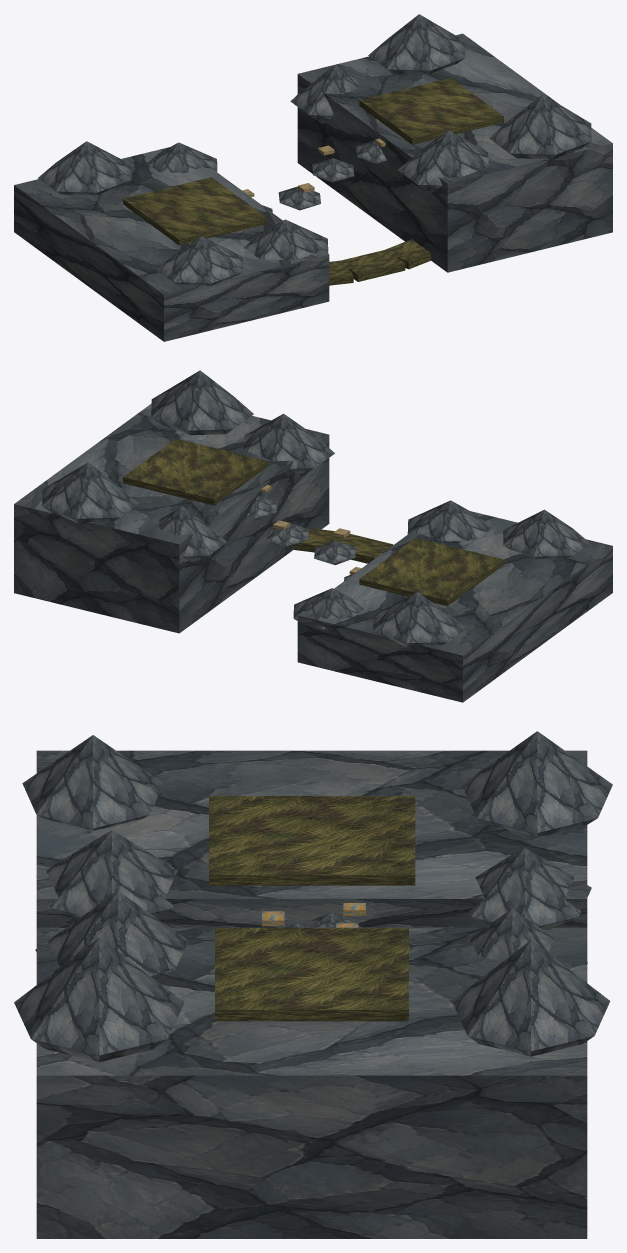
File: ENV_RAVINE_001.obj
3 renders of one model, top to bottom at view 1: azimuth 30°, elevation 25°; view 2: azimuth 150°, elevation 25°; view 3: azimuth 270°, elevation 25°, orthographic. The views are drawn at different scales.
Parts seen in each view (by area): view 1: RecoveryCliff, BelayerCliff, BelayerSafeStance, RecoveryObjectiveLedge, CliffSilhouetteRock_8, CliffSilhouetteRock_7, CliffSilhouetteRock_5, CliffSilhouetteRock_4, CliffSilhouetteRock_6, CliffSilhouetteRock_2, CliffSilhouetteRock_3, CliffSilhouetteRock_1 (+6 smaller); view 2: RecoveryCliff, BelayerCliff, RecoveryObjectiveLedge, BelayerSafeStance, CliffSilhouetteRock_8, CliffSilhouetteRock_7, CliffSilhouetteRock_5, CliffSilhouetteRock_4, CliffSilhouetteRock_6, CliffSilhouetteRock_2, CliffSilhouetteRock_3, CliffSilhouetteRock_1 (+5 smaller); view 3: RecoveryCliff, BelayerCliff, BelayerSafeStance, RecoveryObjectiveLedge, CliffSilhouetteRock_8, CliffSilhouetteRock_7, CliffSilhouetteRock_5, CliffSilhouetteRock_6, CliffSilhouetteRock_2, CliffSilhouetteRock_4, CliffSilhouetteRock_1, CliffSilhouetteRock_3.
Boxes of the visible parts, bbox=[...] form: RecoveryCliff: bbox=[297, 33, 612, 272]; BelayerCliff: bbox=[14, 147, 329, 341]; BelayerSafeStance: bbox=[123, 177, 267, 245]; RecoveryObjectiveLedge: bbox=[359, 77, 503, 144]; CliffSilhouetteRock_8: bbox=[489, 94, 591, 160]; CliffSilhouetteRock_7: bbox=[368, 14, 465, 74]; CliffSilhouetteRock_5: bbox=[38, 141, 130, 195]; CliffSilhouetteRock_4: bbox=[398, 130, 488, 192]; CliffSilhouetteRock_6: bbox=[156, 236, 243, 286]; CliffSilhouetteRock_2: bbox=[244, 219, 328, 266]; CliffSilhouetteRock_3: bbox=[290, 65, 358, 123]; CliffSilhouetteRock_1: bbox=[147, 142, 217, 172]; RecoveryCliff: bbox=[14, 403, 329, 633]; BelayerCliff: bbox=[297, 511, 612, 702]; RecoveryObjectiveLedge: bbox=[123, 438, 267, 505]; BelayerSafeStance: bbox=[359, 538, 503, 606]; CliffSilhouetteRock_8: bbox=[151, 370, 253, 435]; CliffSilhouetteRock_7: bbox=[42, 462, 139, 524]; CliffSilhouetteRock_5: bbox=[373, 592, 466, 648]; CliffSilhouetteRock_4: bbox=[244, 413, 334, 476]; CliffSilhouetteRock_6: bbox=[503, 509, 589, 558]; CliffSilhouetteRock_2: bbox=[407, 500, 491, 541]; CliffSilhouetteRock_3: bbox=[158, 506, 226, 564]; CliffSilhouetteRock_1: bbox=[293, 588, 363, 629]; RecoveryCliff: bbox=[36, 927, 587, 1238]; BelayerCliff: bbox=[36, 750, 587, 927]; BelayerSafeStance: bbox=[209, 796, 415, 885]; RecoveryObjectiveLedge: bbox=[215, 928, 408, 1021]; CliffSilhouetteRock_8: bbox=[14, 937, 184, 1061]; CliffSilhouetteRock_7: bbox=[452, 940, 610, 1056]; CliffSilhouetteRock_5: bbox=[462, 731, 612, 836]; CliffSilhouetteRock_6: bbox=[22, 735, 163, 830]; CliffSilhouetteRock_2: bbox=[36, 830, 177, 918]; CliffSilhouetteRock_4: bbox=[35, 891, 188, 975]; CliffSilhouetteRock_1: bbox=[468, 848, 591, 927]; CliffSilhouetteRock_3: bbox=[470, 908, 587, 963].
Bounding box in the file's own units: 7.6 × 2.24 × 4.79.
Materials: 3 (3 with a texture image).
